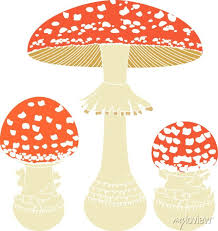Amanita muscaria: (24, 4, 203, 113), (0, 99, 79, 205), (150, 119, 217, 210)
